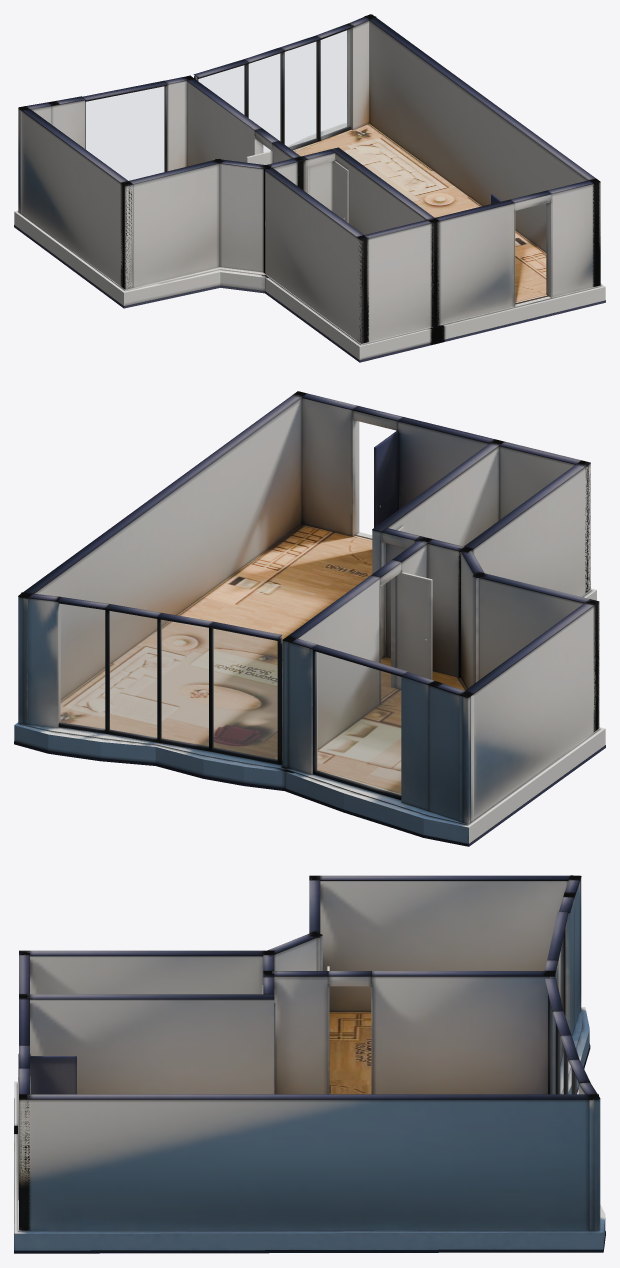
3 views of the same model, one above another, from view 1: azimuth 30°, elevation 25°; view 2: azimuth 150°, elevation 25°; view 3: azimuth 270°, elevation 25° (orthographic). The views are drawn at different scales.
Parts seen in each view (by area): view 1: plan, glass0_m, glass3_m, glass4_m, glass2_m, glass1_m; view 2: plan, glass0_m, glass1_m, glass2_m, glass3_m, glass4_m; view 3: plan.
Boxes of the visible parts, x1,y1,x2,y2 form: plan: [14, 14, 605, 362]; glass0_m: [86, 86, 164, 180]; glass3_m: [285, 41, 316, 147]; glass4_m: [321, 29, 349, 136]; glass2_m: [249, 53, 281, 152]; glass1_m: [198, 65, 244, 114]; plan: [14, 391, 605, 846]; glass0_m: [316, 652, 400, 795]; glass1_m: [213, 629, 277, 760]; glass2_m: [161, 620, 208, 746]; glass3_m: [109, 611, 156, 738]; glass4_m: [59, 604, 104, 729]; plan: [14, 875, 605, 1253].
Bounding box in the file's own units: 8.38 × 2.62 × 9.22.
Materials: 2 (1 with a texture image).
